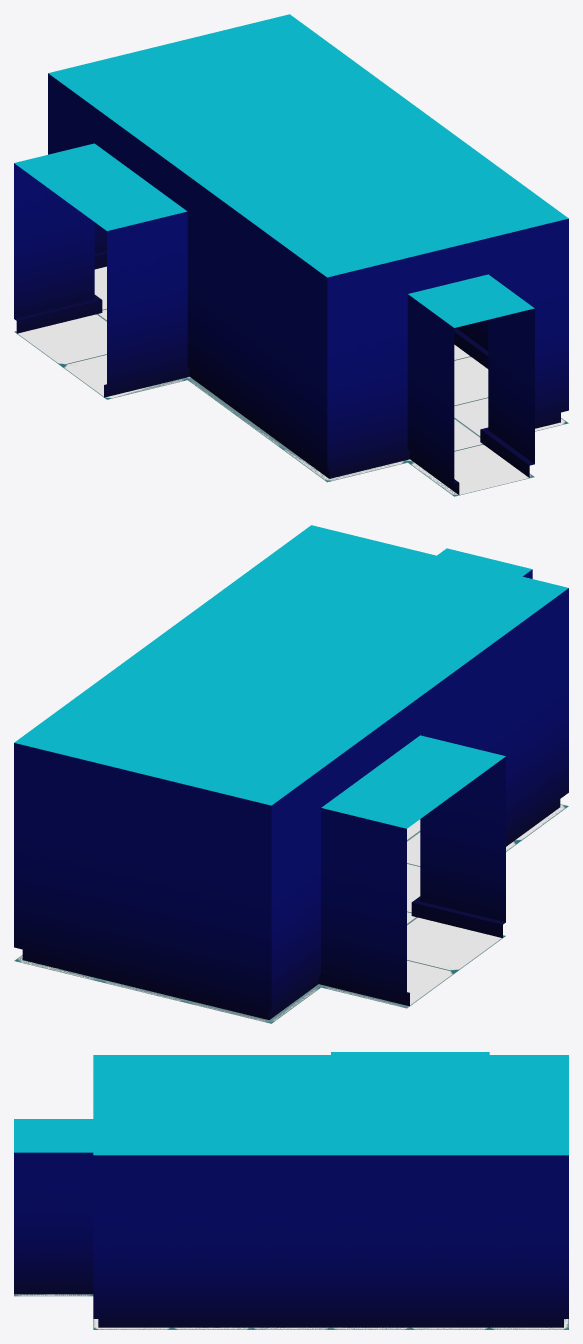
File: Corredor1SaidaGEsquerda.fbx
3 renders of one model, top to bottom at view 1: azimuth 30°, elevation 25°; view 2: azimuth 150°, elevation 25°; view 3: azimuth 270°, elevation 25°, orthographic. The views are drawn at different scales.
Parts seen in each view (by area): view 1: Corredor1SaidaGEsquerda; view 2: Corredor1SaidaGEsquerda; view 3: Corredor1SaidaGEsquerda.
Part boxes in pixels (x1,y1,x2,y2): Corredor1SaidaGEsquerda: (14, 14, 568, 496); Corredor1SaidaGEsquerda: (14, 525, 568, 1023); Corredor1SaidaGEsquerda: (14, 1052, 568, 1329).
Size of the model in its own units: 400 by 243 by 700.
1 material, 1 textured.
